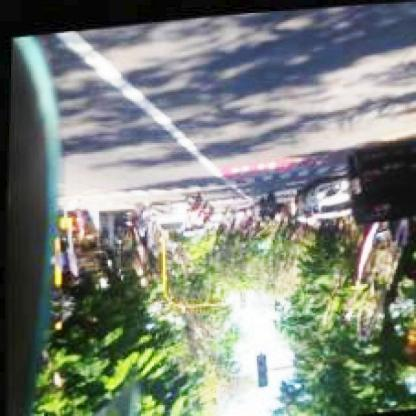Traffic Light -Yellow-: (254, 351, 270, 385)
